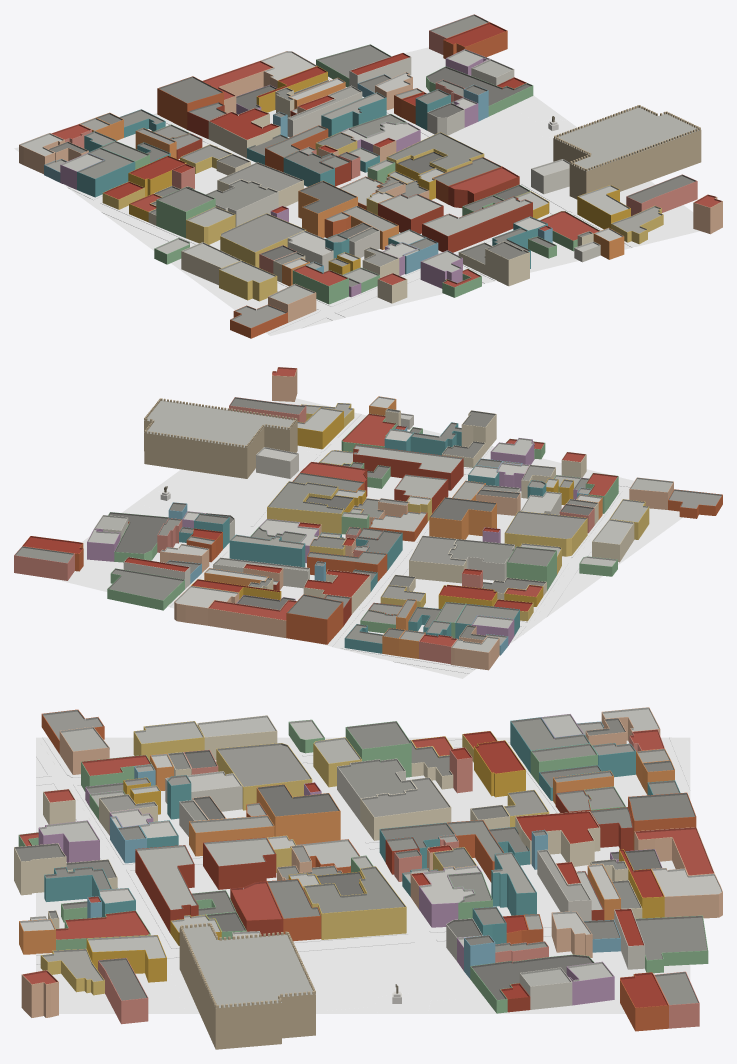
The picture shows the model from 3 angles, top to bottom: view 1: azimuth 30°, elevation 25°; view 2: azimuth 150°, elevation 25°; view 3: azimuth 270°, elevation 25°; orthographic projection. The views are drawn at different scales.
Visible parts, largest first — view 1: roofs, walls, plaza, asphalt, pavers, sidewalk, stone; view 2: roofs, walls, plaza, pavers, sidewalk, asphalt, stone; view 3: roofs, walls, plaza, pavers, asphalt, sidewalk, stone, concrete.
Part boxes in pixels (box(x1,y1,x2,y2)): roofs: box(19, 14, 722, 328); walls: box(19, 30, 722, 338); plaza: box(14, 47, 700, 333); asphalt: box(69, 188, 420, 335); pavers: box(165, 79, 631, 283); sidewalk: box(63, 76, 635, 334); stone: box(548, 105, 700, 171); roofs: box(14, 367, 722, 652); walls: box(14, 369, 722, 670); plaza: box(52, 398, 682, 678); pavers: box(170, 414, 621, 672); sidewalk: box(167, 413, 634, 673); asphalt: box(362, 470, 679, 640); stone: box(144, 398, 297, 500); roofs: box(14, 707, 722, 1008); walls: box(14, 712, 722, 1049); plaza: box(36, 737, 690, 1013); pavers: box(36, 737, 690, 1013); asphalt: box(36, 737, 556, 872); sidewalk: box(36, 737, 690, 964); stone: box(180, 923, 401, 1008); concrete: box(167, 958, 460, 1013).
Size of what is drawn, in the model's own units: 296 by 18.5 by 271.
